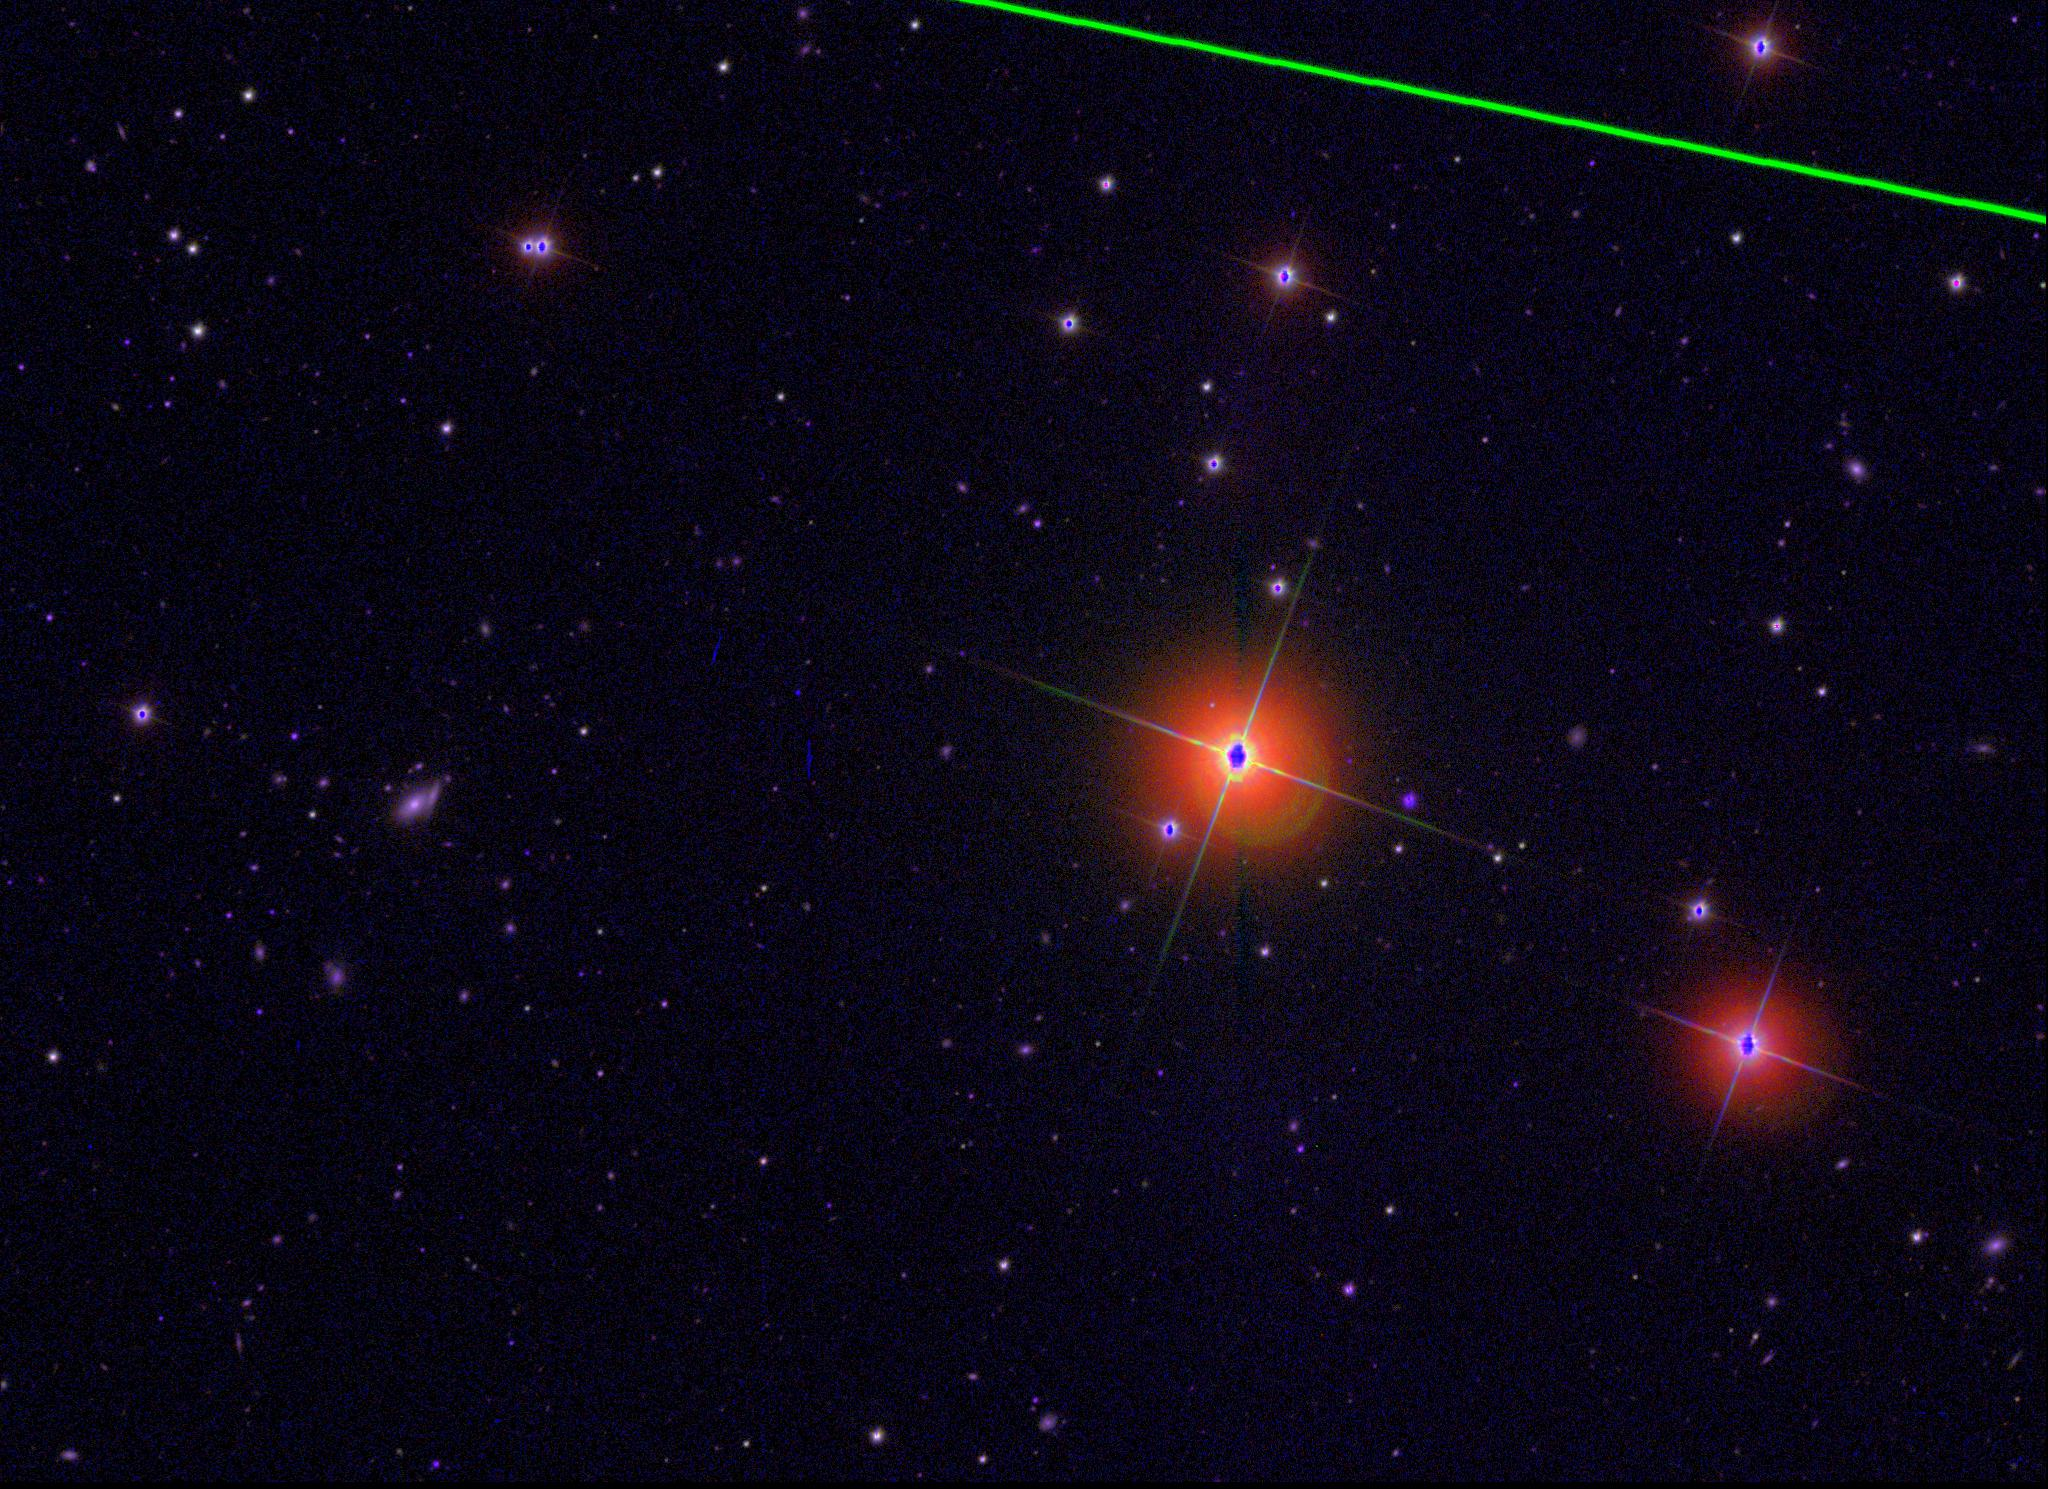L: (790, 682, 805, 697)
